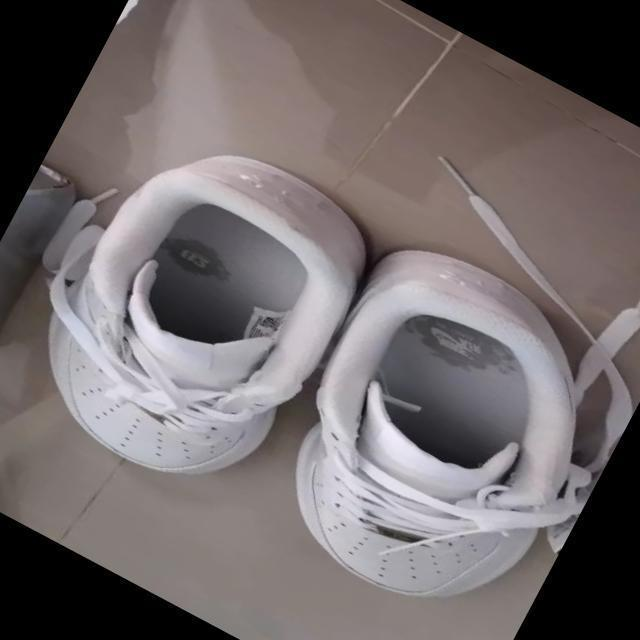nike fake air force: (0, 82, 413, 534), (239, 220, 640, 640)
